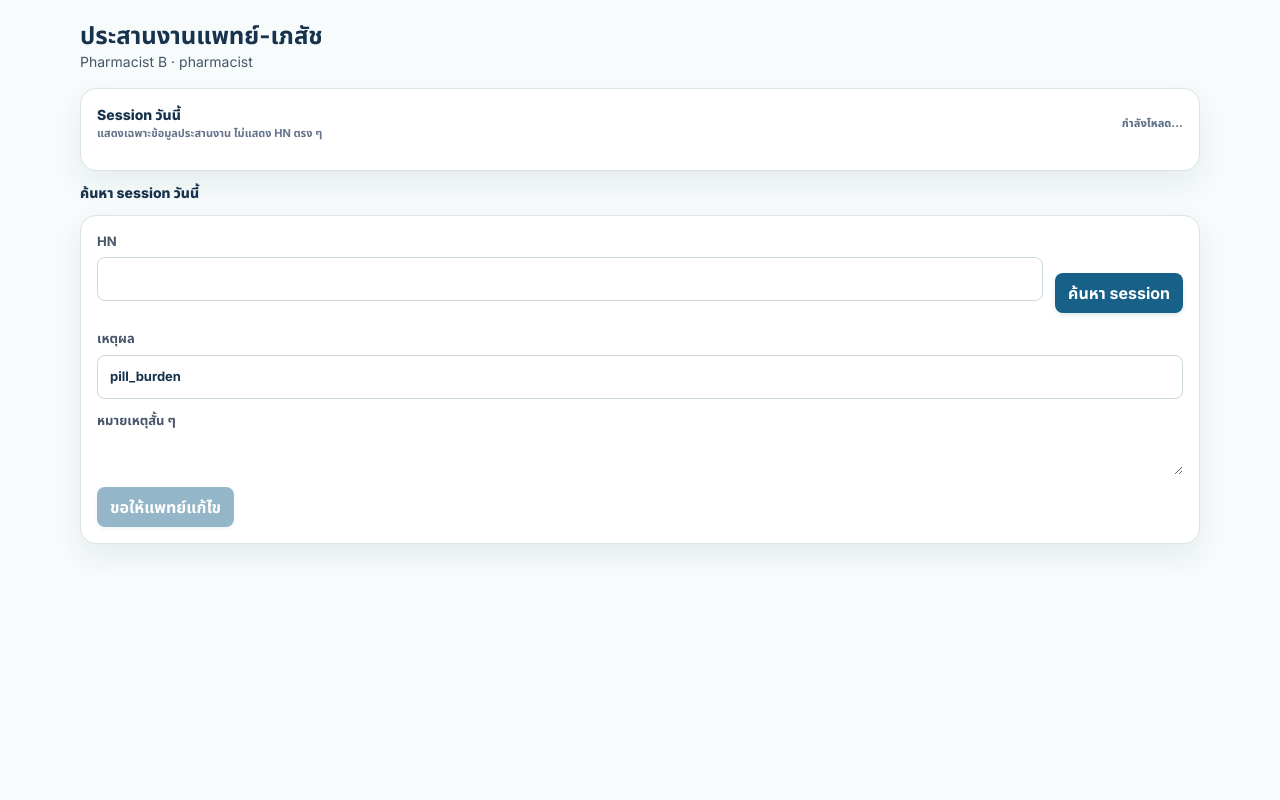
Test: StaffCoordination › highlights a worklist session after HN search finds it
In the field labelled "HN": (570,279) [97,257,1043,301], type "12345"
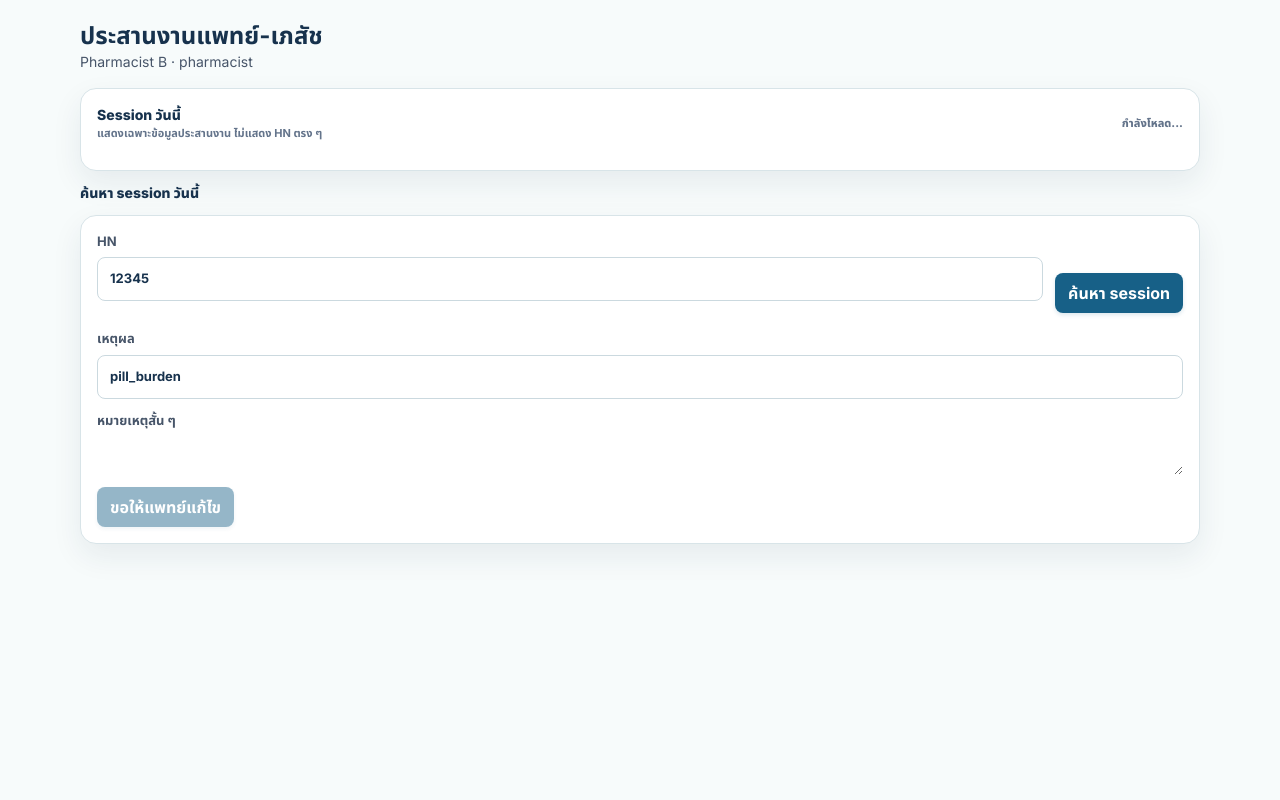
Click the button "ค้นหา session": (1119,293) [1055,273,1183,313]
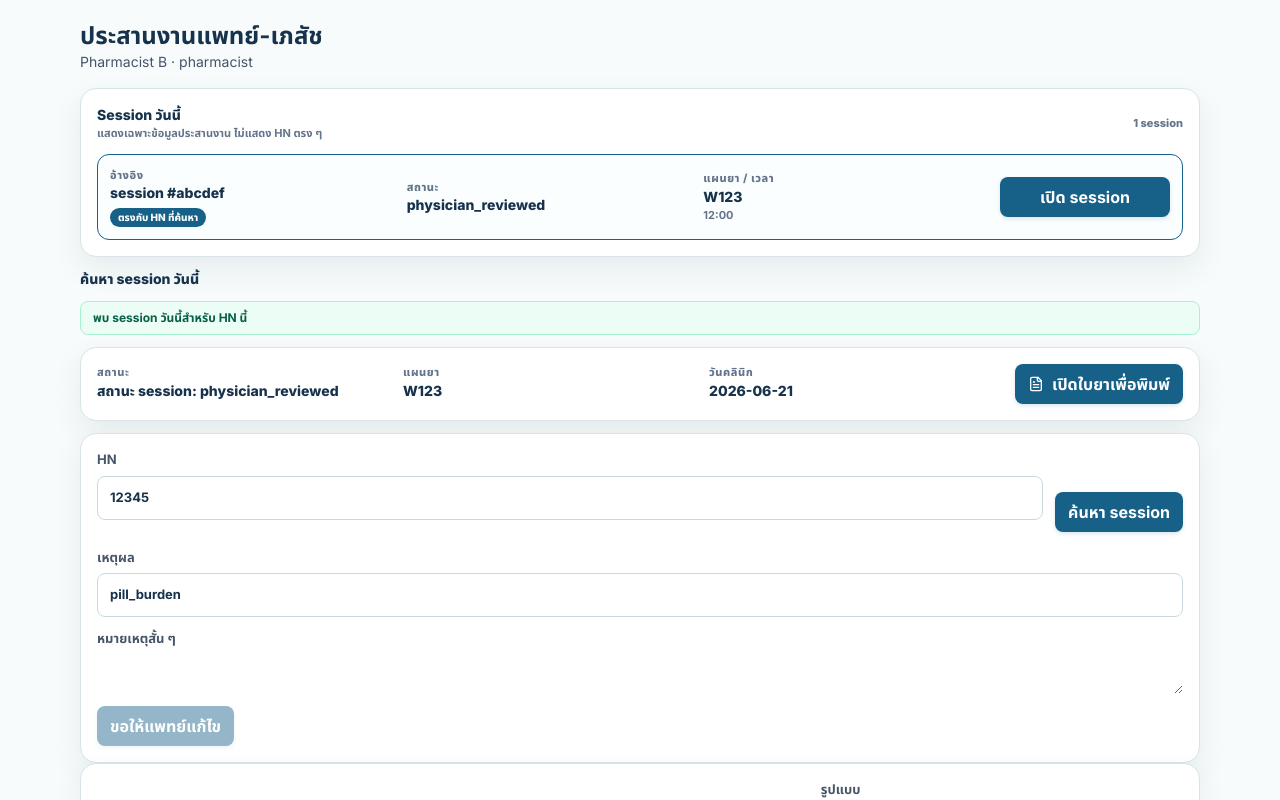
Result: the text "ตรงกับ HN ที่ค้นหา" is shown at [110,208,206,227]
Result: the button with aria-label "เปิด session #abcdef" is shown at [1000,177,1170,217]
